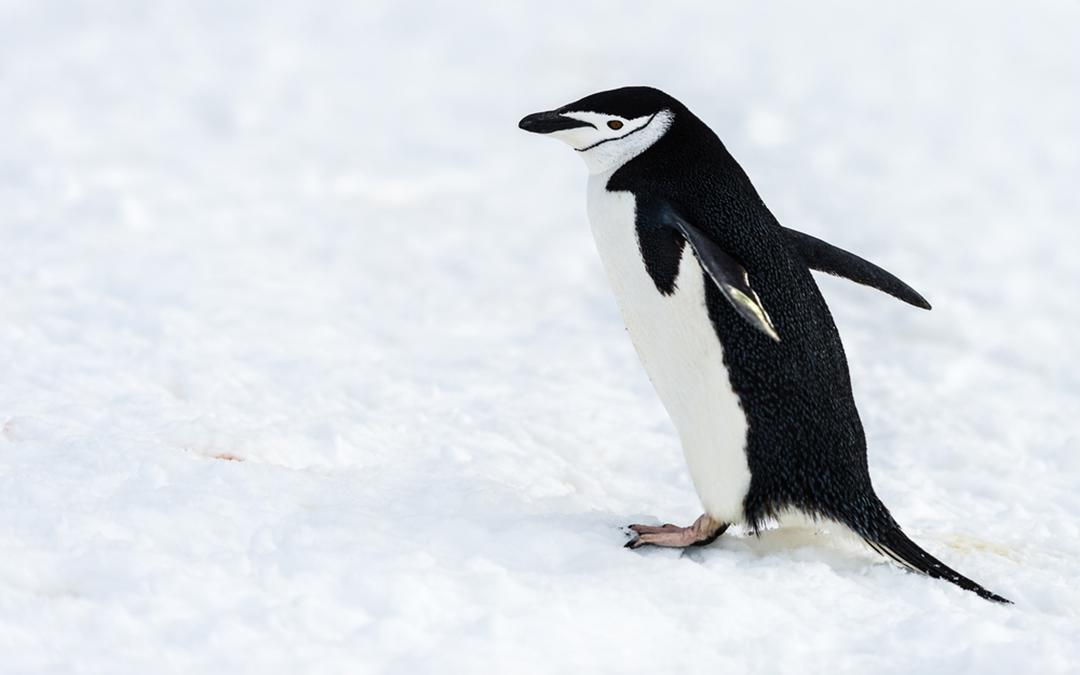chinstrap: (452, 69, 1013, 632)
